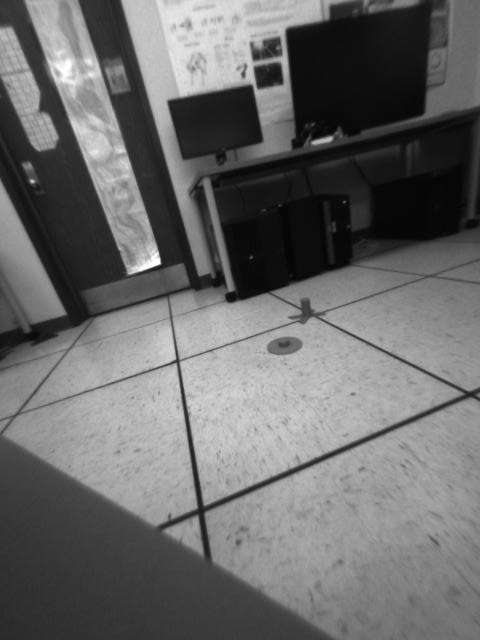X: (287, 299, 327, 325)
